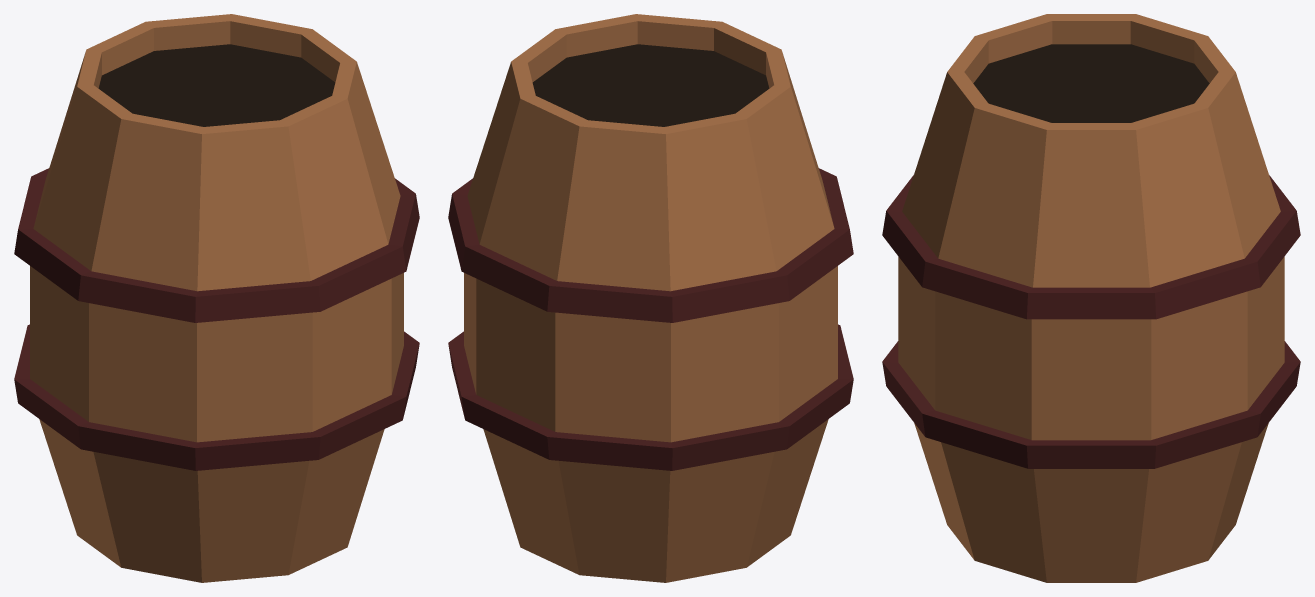
File: barrel.fbx
3 renders of one model, left to right at view 1: azimuth 30°, elevation 25°; view 2: azimuth 150°, elevation 25°; view 3: azimuth 270°, elevation 25°, orthographic.
Parts seen in each view (by area): view 1: Barrel; view 2: Barrel; view 3: Barrel.
Part boxes in pixels (x1,y1,x2,y2): Barrel: (14, 14, 419, 582); Barrel: (448, 14, 853, 582); Barrel: (882, 14, 1300, 582).
Bounding box in the file's own units: 0.876 × 1.1 × 0.9211.
